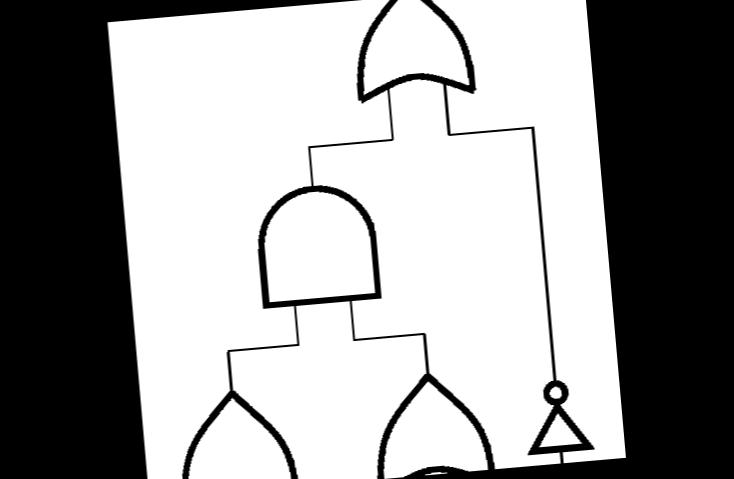and: (244, 174, 388, 314)
not: (514, 368, 600, 462)
or: (360, 358, 500, 479), (342, 0, 483, 111), (165, 371, 305, 479)
